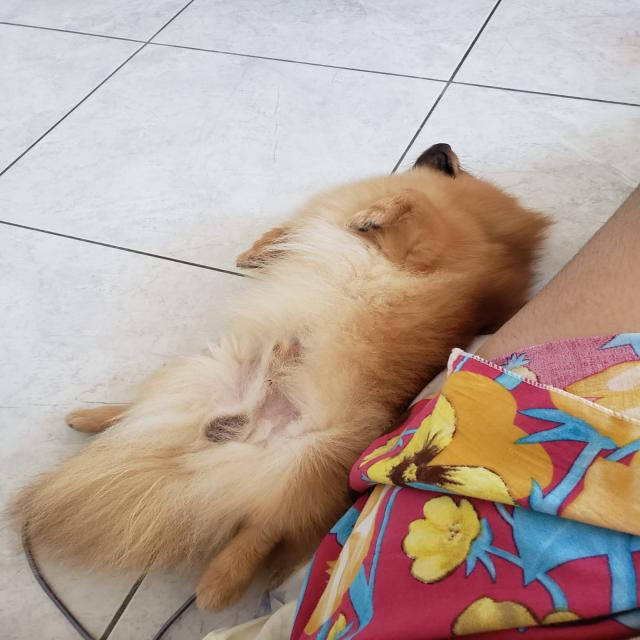laying down: (11, 134, 560, 627)
